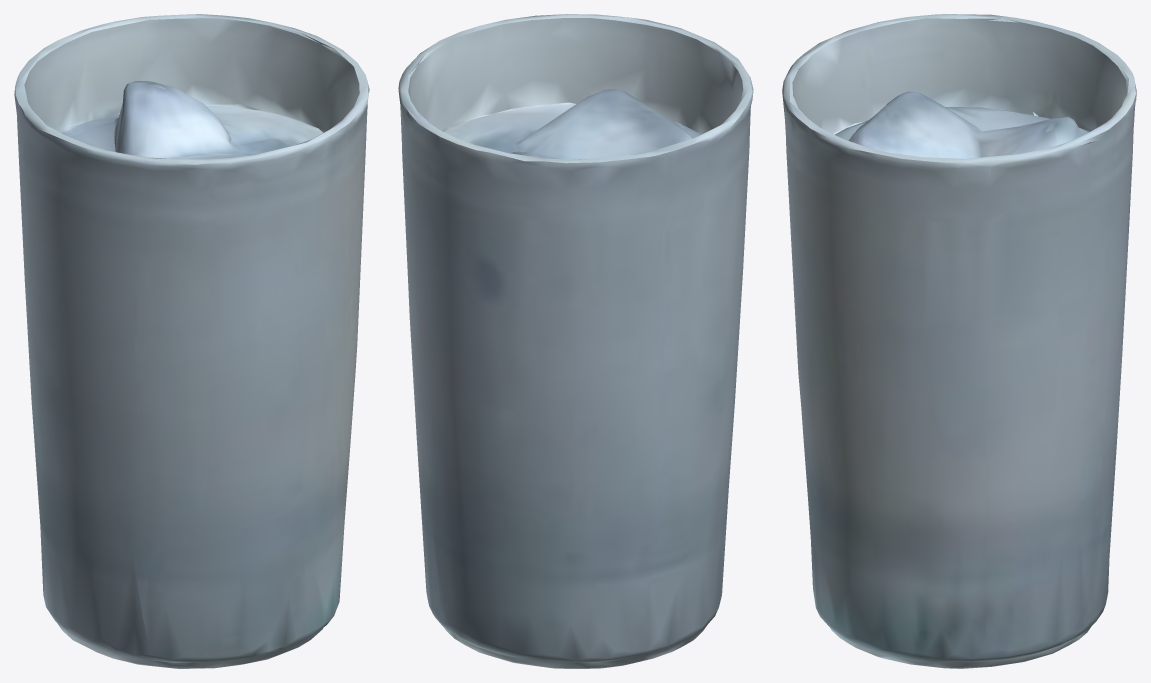
The model's file is water.glb.
3 renders of one model, left to right at view 1: azimuth 30°, elevation 25°; view 2: azimuth 150°, elevation 25°; view 3: azimuth 270°, elevation 25°, orthographic.
Visible parts, largest first — view 1: water; view 2: water; view 3: water.
Boxes of the visible parts, x1,y1,x2,y2 form: water: [14, 14, 369, 668]; water: [398, 14, 753, 668]; water: [782, 14, 1136, 668].
Size of the model in its own units: 0.0795 by 0.13 by 0.0794.
Materials: 1 (1 with a texture image).
